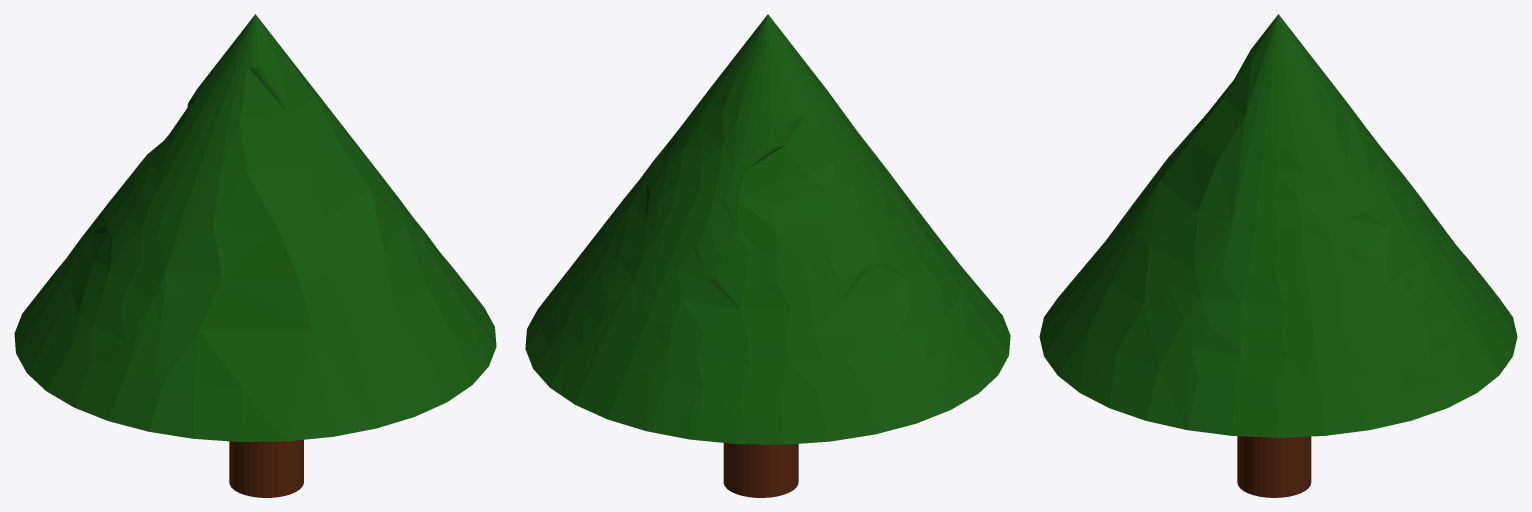
File: Tree Small.fbx
3 renders of one model, left to right at view 1: azimuth 30°, elevation 25°; view 2: azimuth 150°, elevation 25°; view 3: azimuth 270°, elevation 25°, orthographic.
Parts seen in each view (by area): view 1: Cylinder.038; view 2: Cylinder.038; view 3: Cylinder.038.
Part boxes in pixels (x1,y1,x2,y2): Cylinder.038: (14,14,496,497); Cylinder.038: (525,14,1010,497); Cylinder.038: (1039,14,1517,497).
Size of the model in its own units: 663 by 710 by 663.
